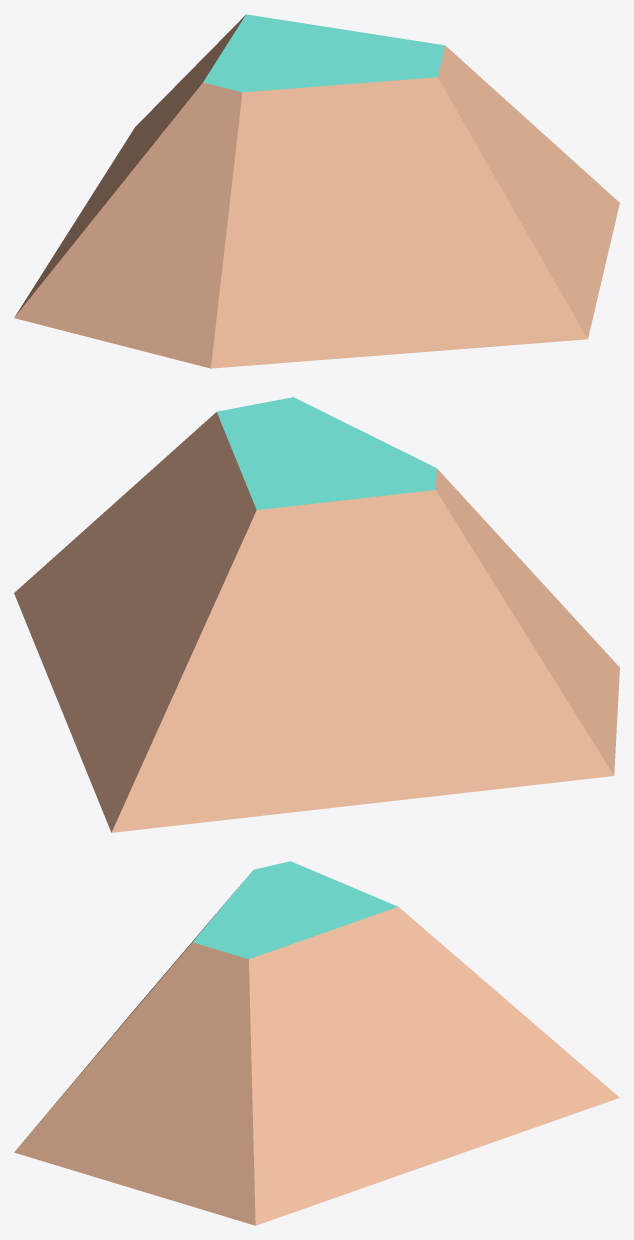
Rendered from kenney.nature.rock_smallC.glb.
The picture shows the model from 3 angles, top to bottom: view 1: azimuth 30°, elevation 25°; view 2: azimuth 150°, elevation 25°; view 3: azimuth 270°, elevation 25°; orthographic projection. The views are drawn at different scales.
Parts seen in each view (by area): view 1: rock_smallC; view 2: rock_smallC; view 3: rock_smallC.
Boxes of the visible parts, x1,y1,x2,y2 form: rock_smallC: (14,14,619,368); rock_smallC: (14,397,619,832); rock_smallC: (14,861,619,1225).
Bounding box in the file's own units: 3.61 × 1.23 × 3.61.
